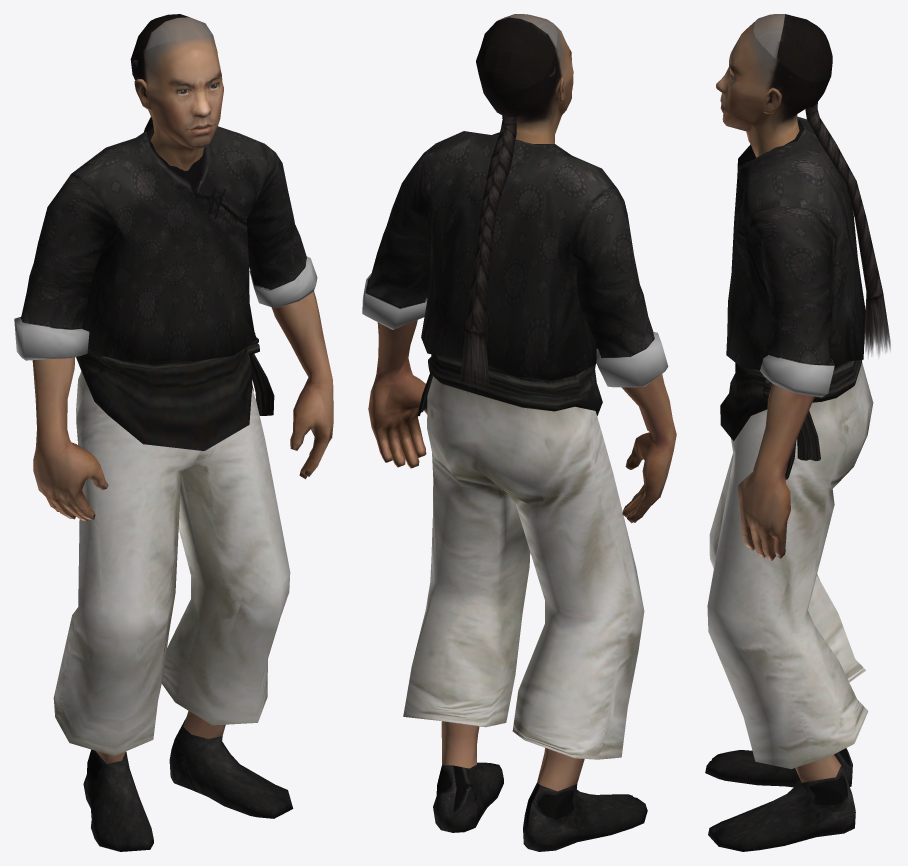
The picture shows the model from 3 angles, left to right: view 1: azimuth 30°, elevation 25°; view 2: azimuth 150°, elevation 25°; view 3: azimuth 270°, elevation 25°; orthographic projection.
Visible parts, largest first — view 1: om_cn_41; view 2: om_cn_41; view 3: om_cn_41.
Part boxes in pixels (box(x1,y1,x2,y2)): om_cn_41: box(14, 14, 333, 851); om_cn_41: box(362, 14, 676, 851); om_cn_41: box(705, 14, 890, 851).
Size of the model in its own units: 0.8346 by 2.09 by 0.4539.
Materials: 7 (7 with a texture image).
